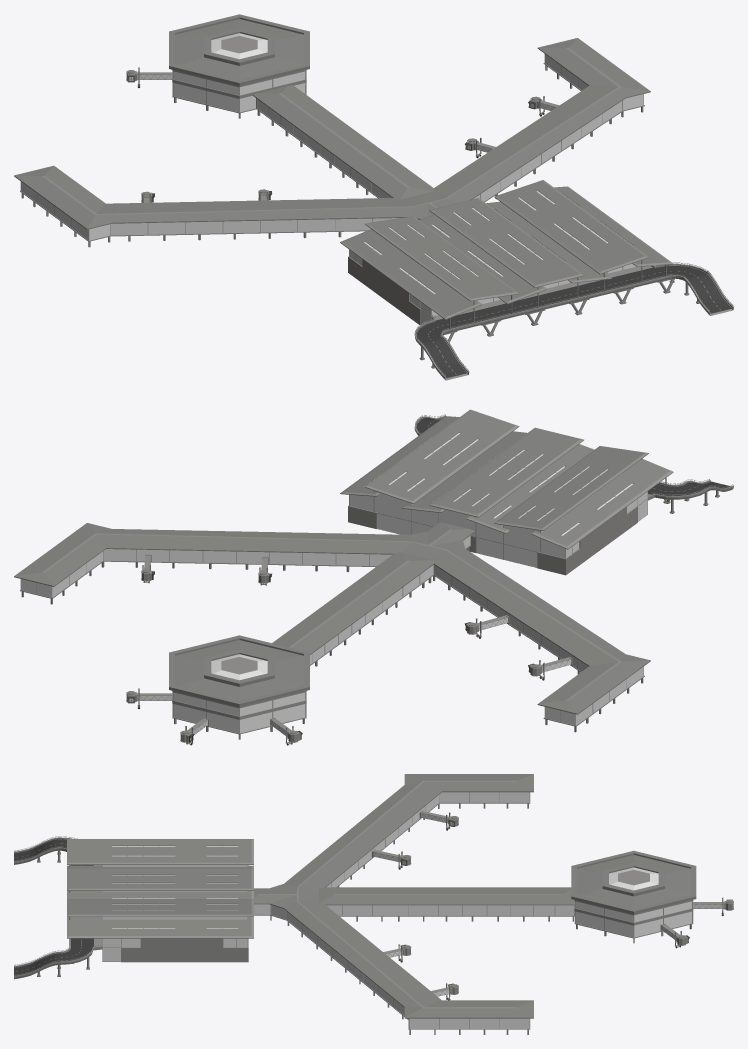
File: SM_Bldg_City_Airport.fbx
3 views of the same model, one above another, from view 1: azimuth 30°, elevation 25°; view 2: azimuth 150°, elevation 25°; view 3: azimuth 270°, elevation 25° (orthographic). The views are drawn at different scales.
Visible parts, largest first — view 1: SM_Bldg_City_Airport; view 2: SM_Bldg_City_Airport; view 3: SM_Bldg_City_Airport.
Boxes of the visible parts, x1=… form: SM_Bldg_City_Airport: x1=14, y1=14, x2=733, y2=380; SM_Bldg_City_Airport: x1=14, y1=409, x2=733, y2=745; SM_Bldg_City_Airport: x1=14, y1=774, x2=733, y2=1034.
Size of the model in its own units: 25570 by 1956 by 31942.
